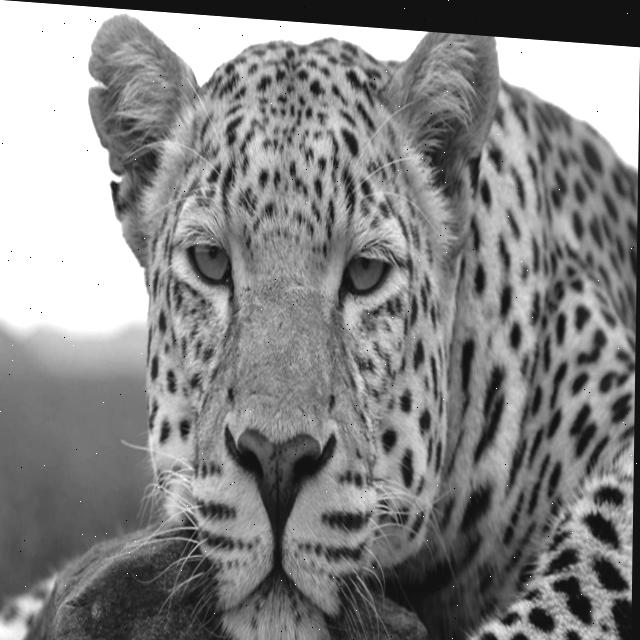Leopard: (15, 2, 638, 640)
